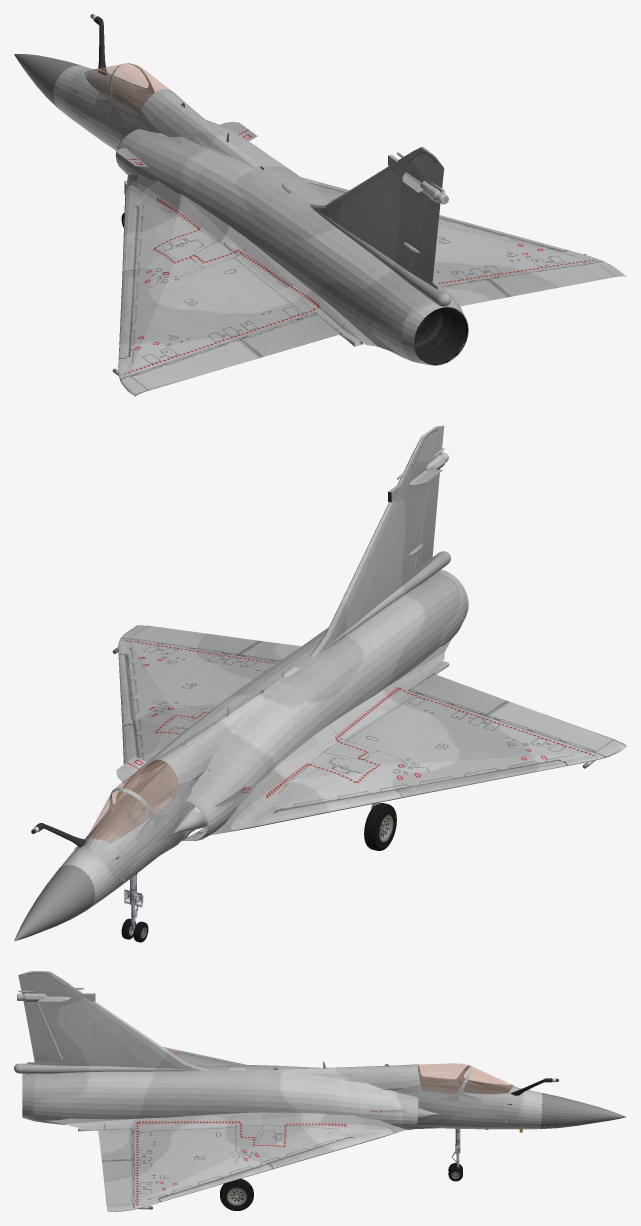
The model's file is mirage2000.glb.
3 renders of one model, top to bottom at view 1: azimuth 30°, elevation 25°; view 2: azimuth 150°, elevation 25°; view 3: azimuth 270°, elevation 25°, orthographic. The views are drawn at different scales.
Parts seen in each view (by area): view 1: airframe, aileron_l, nozzle, elevator_l, aileron_r, flap_l, canopy, rudder, elevator_r, flap_r; view 2: airframe, flap_l, aileron_l, aileron_r, canopy, elevator_l, flap_r, gear_roueG, rudder, elevator_r; view 3: airframe, flap_r, aileron_r, rudder, canopy, elevator_r, gear_roueD, canopy_frame.
Part boxes in pixels (left/top/right/bottom): airframe: left=14, top=14, right=626, bottom=396; aileron_l: left=130, top=340, right=258, bottom=390; nozzle: left=414, top=307, right=467, bottom=365; elevator_l: left=237, top=314, right=339, bottom=357; aileron_r: left=490, top=262, right=614, bottom=296; flap_l: left=118, top=197, right=141, bottom=365; canopy: left=112, top=63, right=169, bottom=115; rudder: left=411, top=198, right=440, bottom=282; elevator_r: left=442, top=278, right=510, bottom=306; flap_r: left=301, top=177, right=578, bottom=254; airframe: left=14, top=425, right=626, bottom=941; flap_l: left=257, top=759, right=578, bottom=826; aileron_l: left=489, top=702, right=614, bottom=752; aileron_r: left=130, top=625, right=258, bottom=655; canopy: left=112, top=760, right=178, bottom=814; elevator_l: left=410, top=674, right=510, bottom=716; flap_r: left=118, top=649, right=138, bottom=763; gear_roueG: left=364, top=803, right=396, bottom=850; rudder: left=414, top=469, right=440, bottom=569; elevator_r: left=236, top=640, right=301, bottom=661; airframe: left=14, top=971, right=626, bottom=1211; flap_r: left=151, top=1135, right=376, bottom=1204; aileron_r: left=102, top=1160, right=134, bottom=1204; rudder: left=24, top=1003, right=62, bottom=1062; canopy: left=418, top=1063, right=469, bottom=1093; elevator_r: left=98, top=1128, right=134, bottom=1161; gear_roueD: left=220, top=1178, right=253, bottom=1210; canopy_frame: left=412, top=1064, right=470, bottom=1095.
Size of the model in its own units: 9.06 by 5.17 by 13.82.
3 materials, 2 textured.
